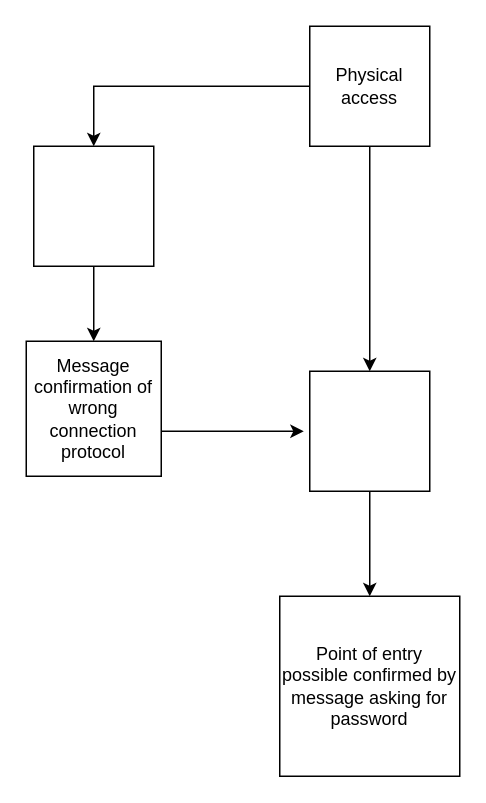
This 486x803 diagram has some shape labels left out. Each missing label, with the centre of its shape:
"Hardware adaption of connection protocol with new pins" belongs at (369,430).
"USB Serial connection classic port" belongs at (93,205).
